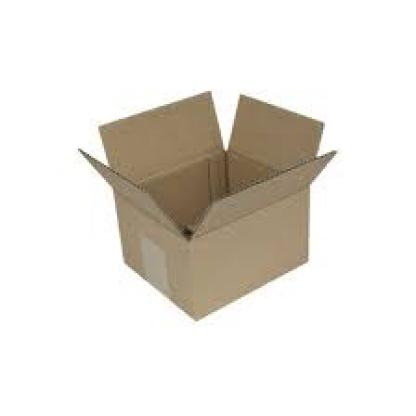CARDBOARD: (76, 89, 334, 323)
